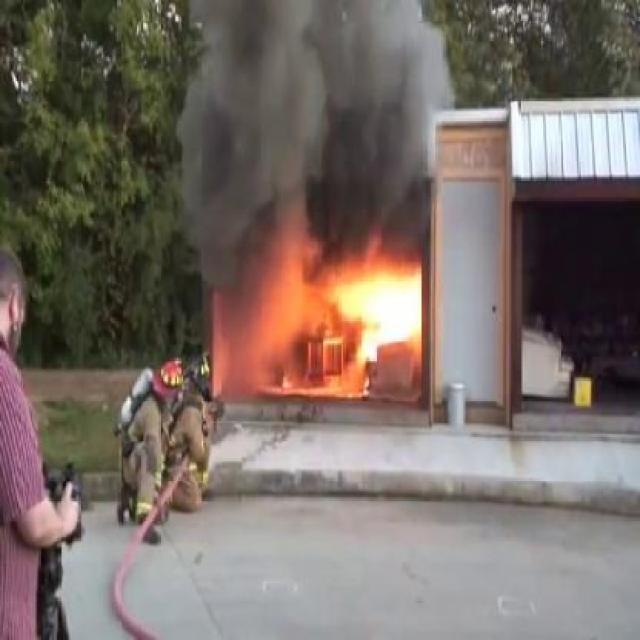fire: (330, 268, 421, 374)
smoke: (179, 1, 453, 254)
